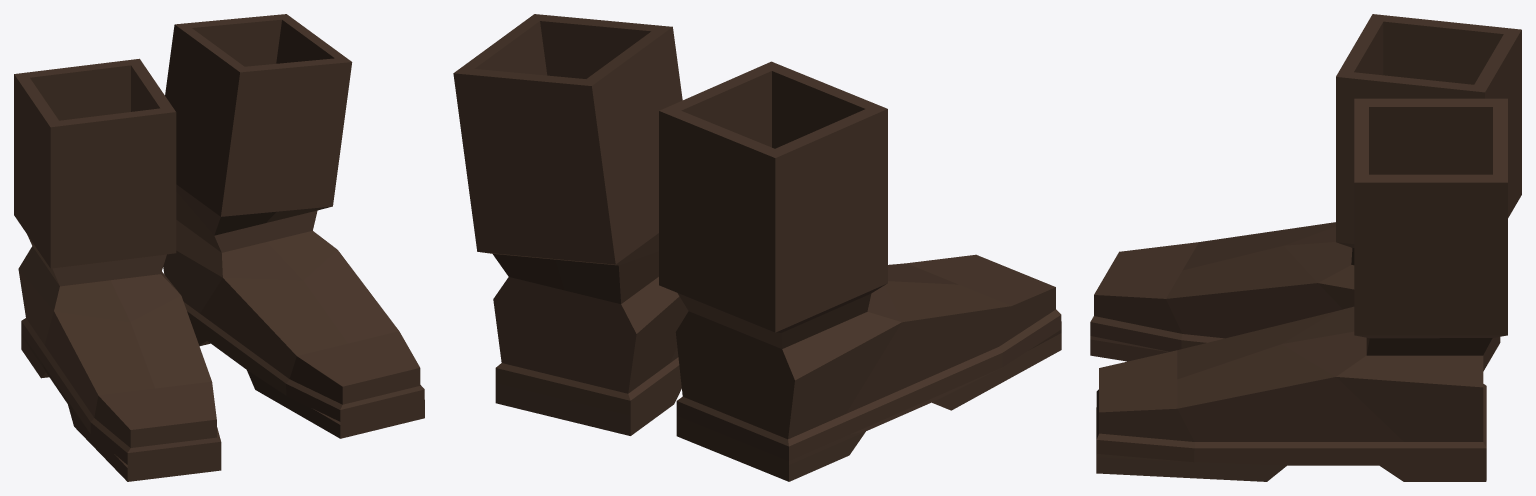
Rendered from Botas.fbx.
The picture shows the model from 3 angles, left to right: view 1: azimuth 30°, elevation 25°; view 2: azimuth 150°, elevation 25°; view 3: azimuth 270°, elevation 25°; orthographic projection. The views are drawn at different scales.
Parts seen in each view (by area): view 1: Cube; view 2: Cube; view 3: Cube.
Part boxes in pixels (bbox=[...]): Cube: bbox=[14, 14, 424, 481]; Cube: bbox=[453, 14, 1061, 481]; Cube: bbox=[1090, 14, 1521, 481].
Bounding box in the file's own units: 626 × 523 × 613.
